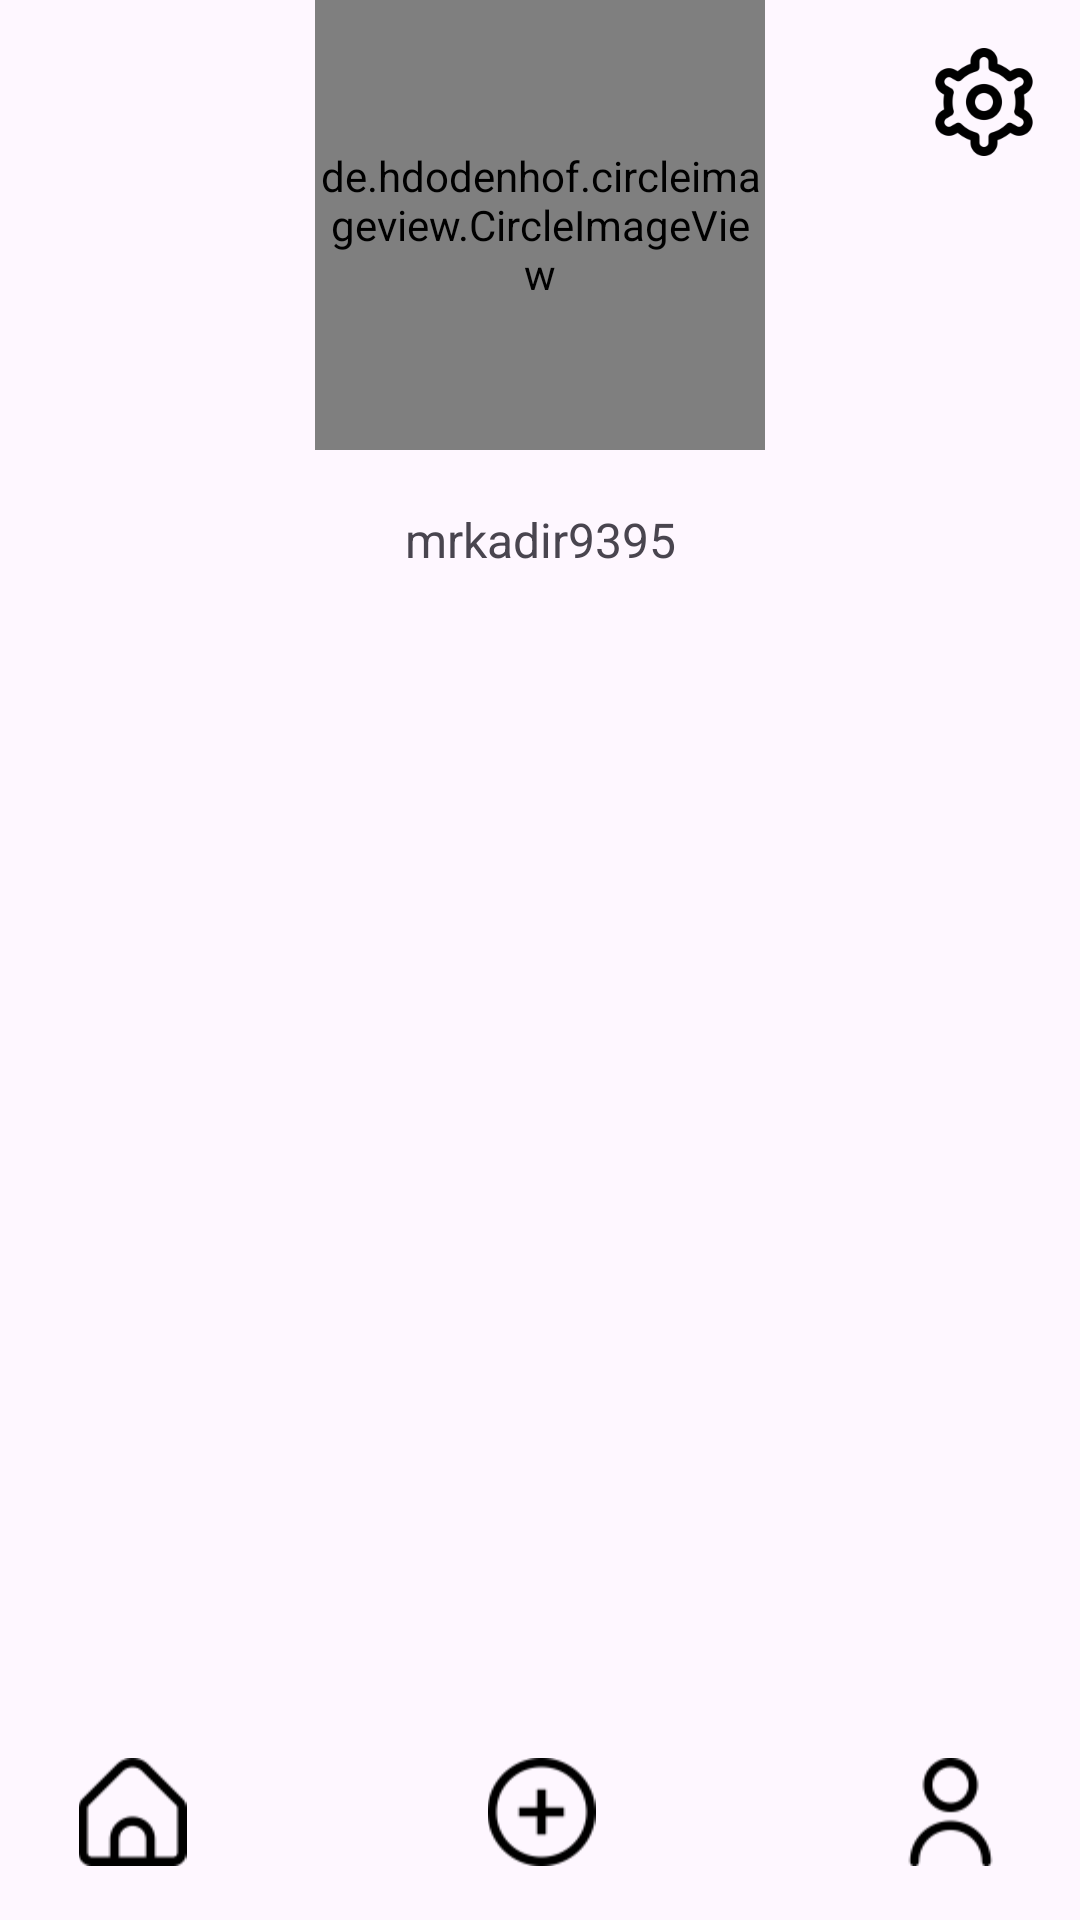

Named icons in this screenshot (1080w x 1920h) and their centers, point (x, y):
add: point (542, 1812)
settings: point (984, 102)
